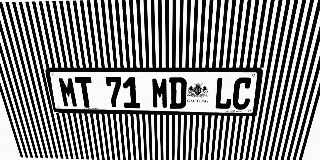1: (122, 77, 140, 108)
7: (104, 77, 124, 108)
C: (231, 77, 253, 110)
D: (169, 77, 187, 109)
L: (213, 77, 234, 109)
M: (57, 77, 79, 107), (151, 77, 169, 109)
T: (74, 77, 95, 108)
